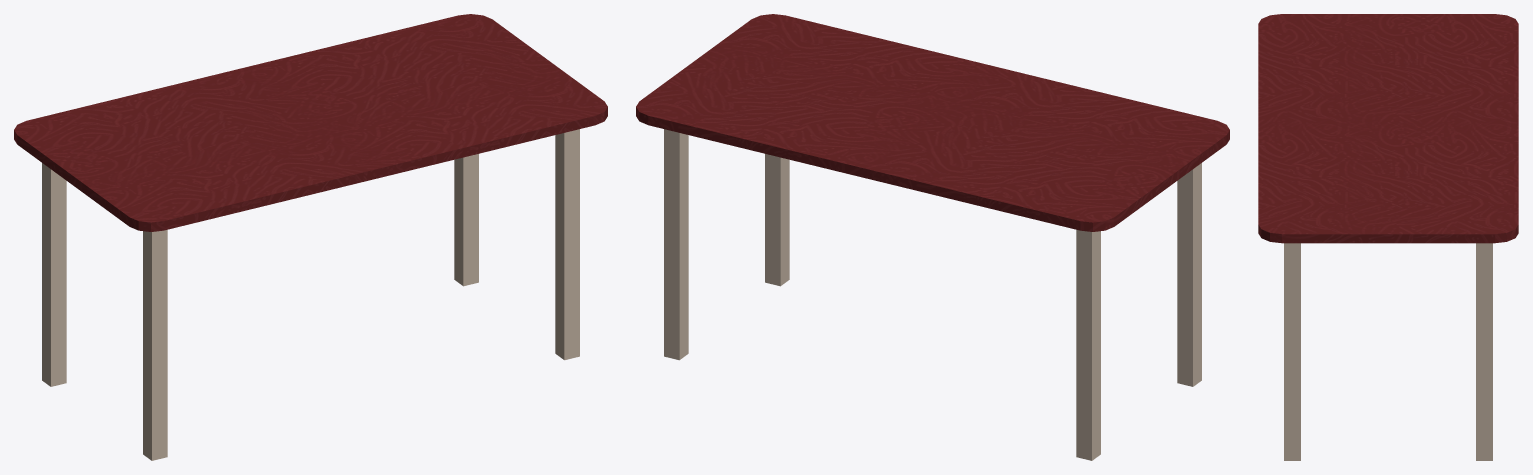
Rendered from table.glb.
3 views of the same model, side by side, from view 1: azimuth 30°, elevation 25°; view 2: azimuth 150°, elevation 25°; view 3: azimuth 270°, elevation 25° (orthographic). The views are drawn at different scales.
Visible parts, largest first — view 1: Tabletop, Leg_BackLeft, Leg_BackRight, Leg_FrontLeft, Leg_FrontRight; view 2: Tabletop, Leg_FrontLeft, Leg_FrontRight, Leg_BackLeft, Leg_BackRight; view 3: Tabletop, Leg_FrontRight, Leg_BackRight.
Boxes of the visible parts, x1,y1,x2,y2 form: Tabletop: (14, 14, 607, 231); Leg_BackLeft: (143, 229, 167, 460); Leg_BackRight: (555, 129, 579, 360); Leg_FrontLeft: (42, 163, 66, 386); Leg_FrontRight: (454, 154, 478, 286); Tabletop: (636, 14, 1229, 231); Leg_FrontLeft: (1076, 229, 1100, 460); Leg_FrontRight: (664, 129, 688, 360); Leg_BackLeft: (1177, 163, 1201, 386); Leg_BackRight: (765, 154, 789, 286); Tabletop: (1258, 14, 1518, 243); Leg_FrontRight: (1476, 243, 1492, 460); Leg_BackRight: (1284, 243, 1300, 460).
Size of the model in its own units: 1.52 by 0.765 by 0.76.
Materials: 1 (1 with a texture image).
